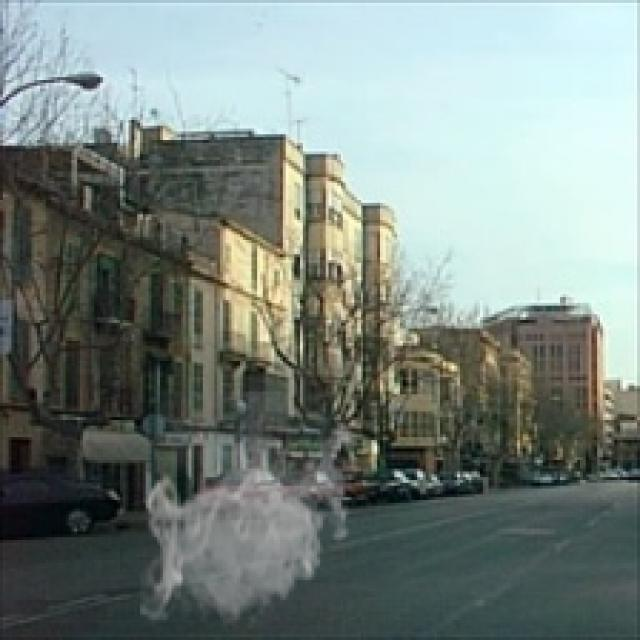Smoke: (140, 392, 363, 628)
